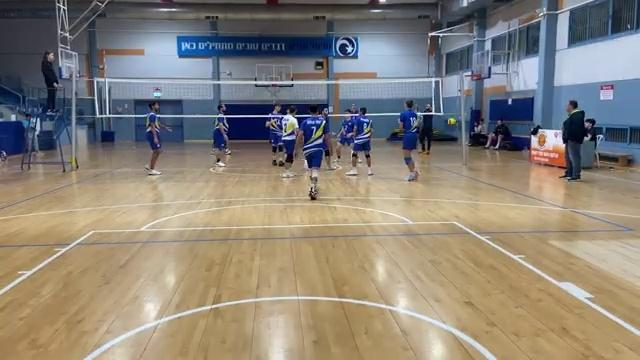ball: (443, 116, 461, 127)
